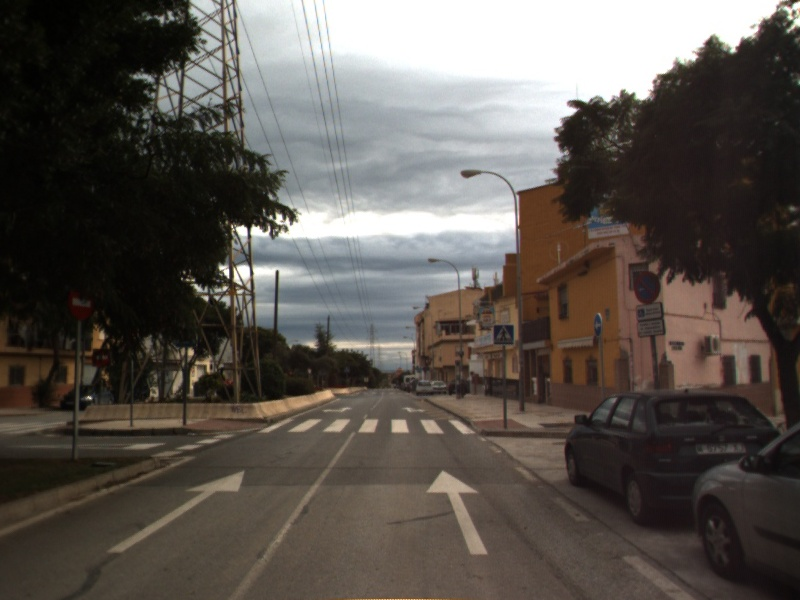STRAIGHT: (103, 468, 247, 554), (423, 468, 491, 556)
STRAIGHT_LEFT: (320, 404, 355, 415)
STRAIGHT_RIGHT: (400, 404, 428, 415)
